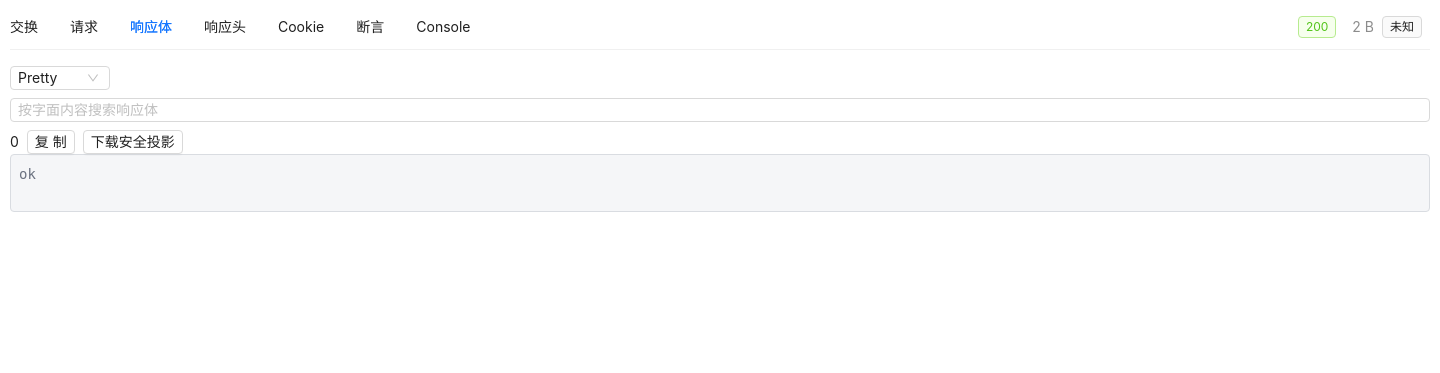
Scenario: ResponseViewer › shows captured and effective upload filenames separately from upload byte counters
The width and height of the screenshot is (1440, 373).
Click the tab with test id "response-tab-request" at (84, 27), box [70,16,98,38]
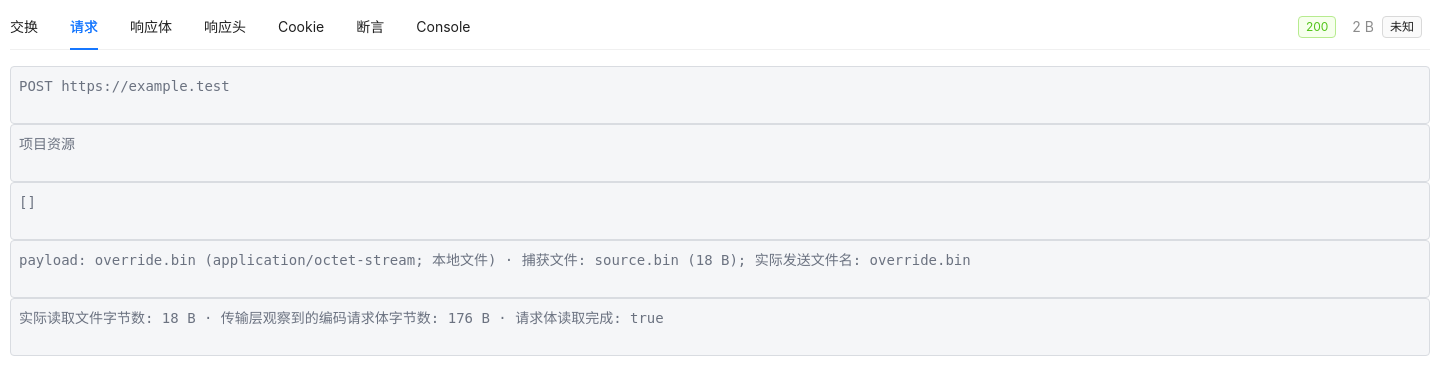
Expected: the text with test id "response-request-body" shows "source.bin", [19,252,971,268]
Expected: the text with test id "response-request-body" shows "override.bin", [19,252,971,268]
Expected: the text with test id "response-request-body" shows "18 B", [19,252,971,268]
